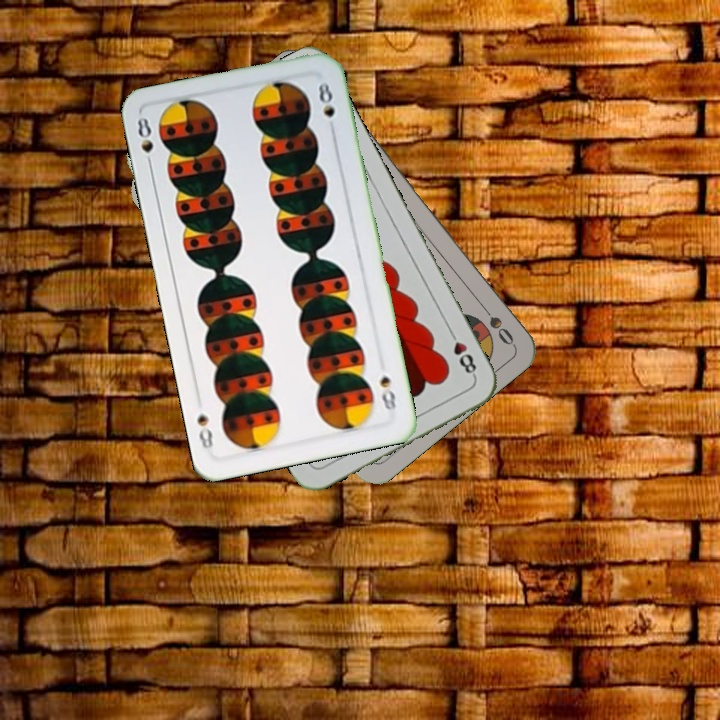H8: (444, 325, 479, 380)
S8: (133, 113, 156, 172), (376, 371, 399, 413)
SO: (474, 297, 517, 348)
